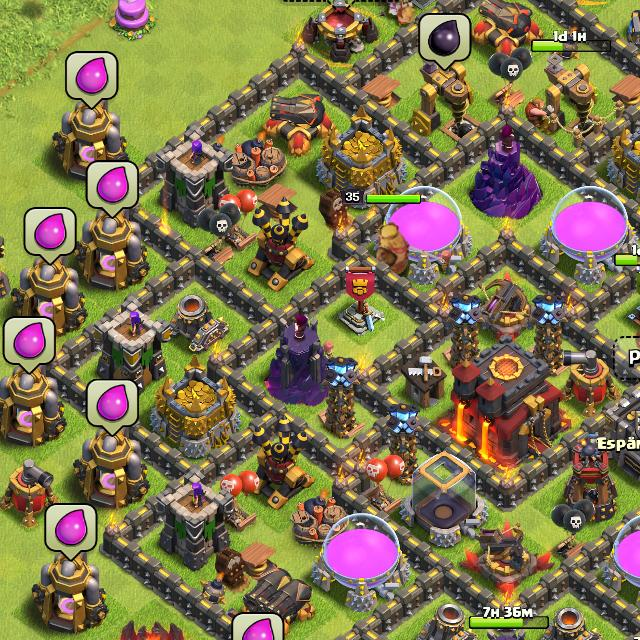Elixir: (22, 206, 79, 268), (63, 50, 121, 110), (42, 503, 100, 563), (85, 160, 142, 221), (85, 378, 142, 439), (2, 316, 58, 376), (231, 612, 284, 640)
ElixirNegro: (418, 15, 471, 68)
